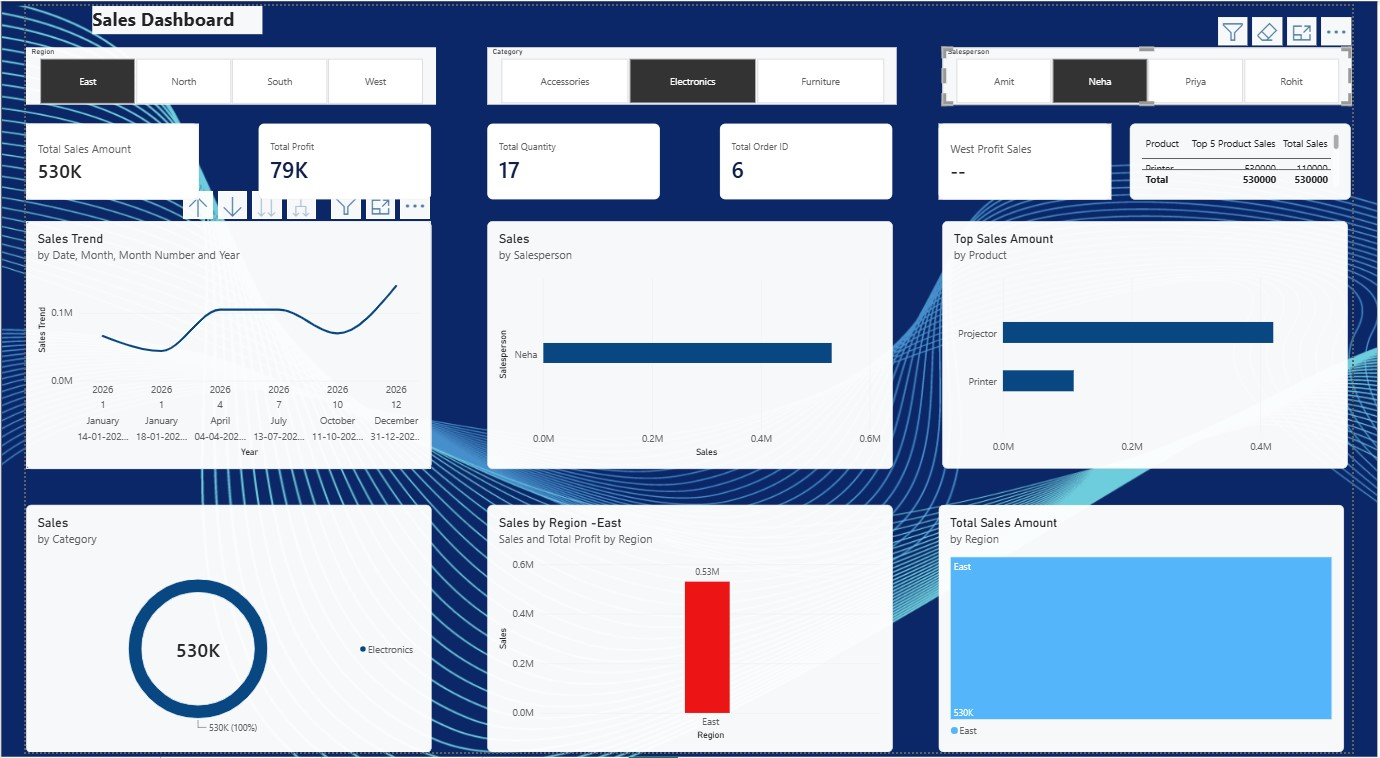

What the dashboard file says about the page in this screenshot:
{"tool":"powerbi","page":{"name":"Final Dashboard","canvas":[1920,1080],"ordinal":1},"visuals":[{"type":"donutChart","fields":{"Category":["Row Data.Category"],"Y":["Sum(Row Data.Sales Amount)"]},"box":[0,722.1,587.5,358.9],"z":0},{"type":"lineChart","fields":{"Category":["Date Table.Date","Date Table.Month","Date Table.Month Number","Date Table.Year"],"Y":["Sum(Row Data.Sales Amount)"]},"box":[0,311.3,587,358.9],"z":1000},{"type":"clusteredBarChart","fields":{"Category":["Row Data.Salesperson"],"Y":["Sum(Row Data.Sales Amount)"]},"box":[667.8,311.3,587,358.9],"z":2000},{"type":"clusteredColumnChart","fields":{"Category":["Row Data.Region"],"Y":["Sum(Row Data.Sales Amount)"]},"box":[667.8,722.1,587,358],"z":3000},{"type":"cardVisual","fields":{"Data":["Sum(Row Data.Sales Amount)"]},"box":[0,170.1,250,110],"z":4000},{"type":"cardVisual","fields":{"Data":["Sum(Row Data.Profit)"]},"box":[336.6,170.1,250,110],"z":5000},{"type":"cardVisual","fields":{"Data":["Sum(Row Data.Quantity)"]},"box":[667.8,170.1,250,110],"z":6000},{"type":"cardVisual","fields":{"Data":["CountNonNull(Row Data.Order ID)"]},"box":[1004.4,170.1,250,110],"z":7000},{"type":"textbox","box":[96.4,0,246.4,41.1],"z":8000},{"type":"slicer","fields":{"Values":["Row Data.Region"]},"box":[0,59.7,593.6,83.2],"z":9000},{"type":"slicer","fields":{"Values":["Row Data.Category"]},"box":[667.8,59.7,593,83],"z":10000},{"type":"slicer","fields":{"Values":["Row Data.Salesperson"]},"box":[1326.5,59.7,593,83],"z":11000},{"type":"clusteredBarChart","fields":{"Category":["Row Data.Product"],"Y":["Sum(Row Data.Sales Amount)"]},"box":[1326.5,311.3,587,358.3],"z":12000},{"type":"treemap","fields":{"Group":["Row Data.Region"],"Values":["Sum(Row Data.Sales Amount)"]},"box":[1321.1,722.1,587,358.3],"z":13000},{"type":"cardVisual","fields":{"Data":["Row Data.West Profit Sales"]},"box":[1321.1,170.1,250,110],"z":14000},{"type":"tableEx","fields":{"Values":["Row Data.Product","Row Data.Top 5 Product Sales","Row Data.Total Sales"]},"box":[1597.9,170.1,320.3,110.4],"z":14001}]}

Visuals, with their boxes in screenshot pixels (x1, y1, x2, y2), scaled from the page's 1920x1080 canvas onto the 1380x758 screenshot:
donutChart - Row Data.Category x Sum(Row Data.Sales Amount): 0:507:422:757
lineChart - Date Table.Date x Date Table.Month: 0:218:422:470
clusteredBarChart - Row Data.Salesperson x Sum(Row Data.Sales Amount): 480:218:902:470
clusteredColumnChart - Row Data.Region x Sum(Row Data.Sales Amount): 480:507:902:757
cardVisual - Sum(Row Data.Sales Amount): 0:119:180:197
cardVisual - Sum(Row Data.Profit): 242:119:422:197
cardVisual - Sum(Row Data.Quantity): 480:119:660:197
cardVisual - CountNonNull(Row Data.Order ID): 722:119:902:197
textbox: 69:0:246:29
slicer - Row Data.Region: 0:42:427:100
slicer - Row Data.Category: 480:42:906:100
slicer - Row Data.Salesperson: 953:42:1379:100
clusteredBarChart - Row Data.Product x Sum(Row Data.Sales Amount): 953:218:1375:470
treemap - Row Data.Region x Sum(Row Data.Sales Amount): 950:507:1371:757
cardVisual - Row Data.West Profit Sales: 950:119:1129:197
tableEx - Row Data.Product x Row Data.Top 5 Product Sales: 1148:119:1379:197
